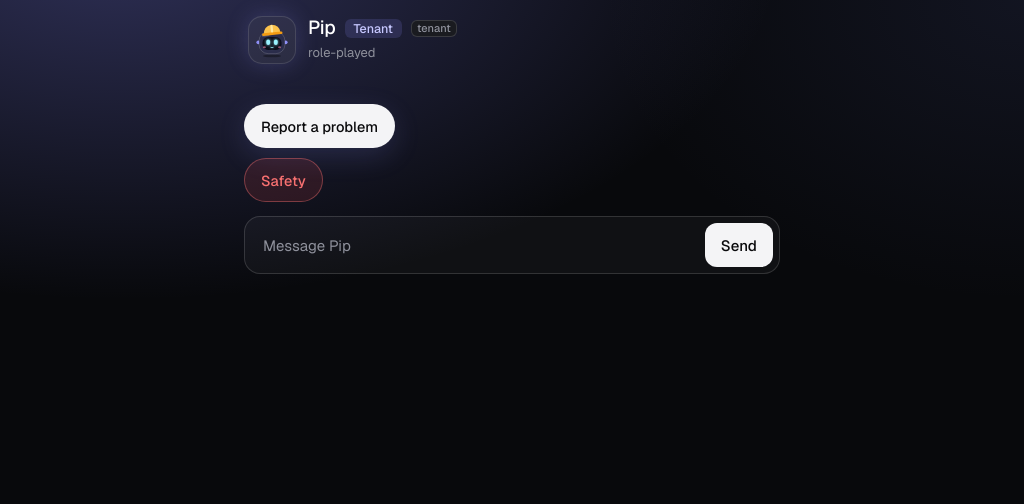
C7a: a typed message and its reply show exactly once › before any poll has the stored copy, the reply shows once from the chat answer
Type "what needs me" into the field labelled "Message Pip" at [479, 245], box [261,223,697,267]
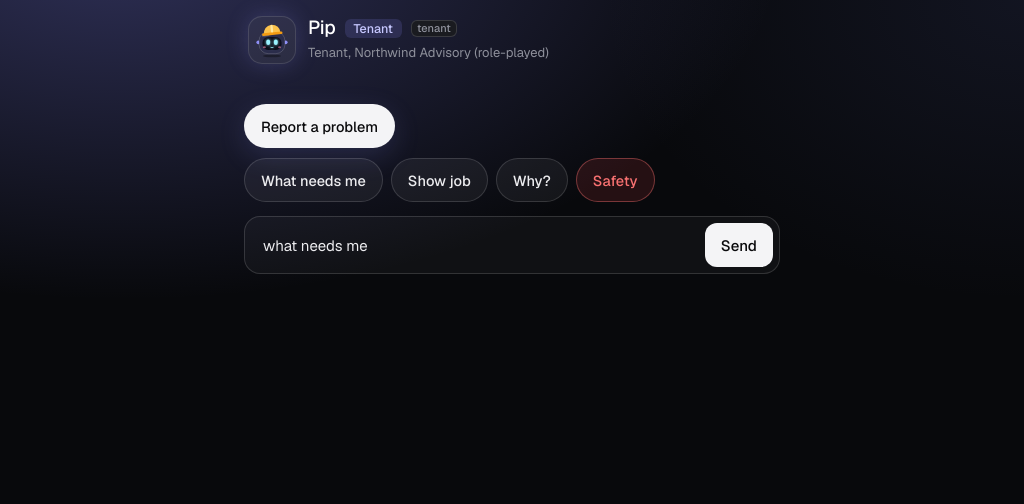
Click the button "Send" at [739, 245], box [705,223,773,267]
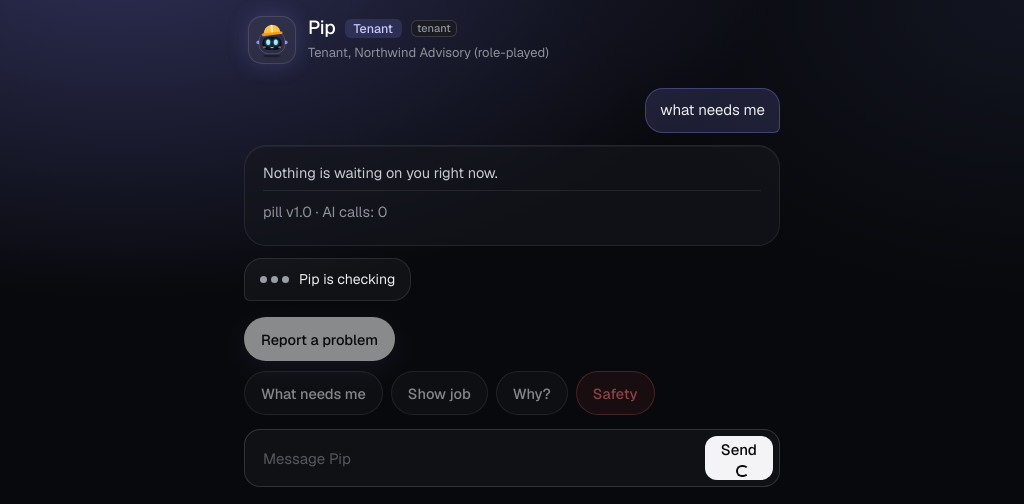
Expected: the text "what needs me" is shown once, [645,88,780,132]
Expected: the text "Nothing is waiting on you right now." is shown once, [263,162,498,182]
